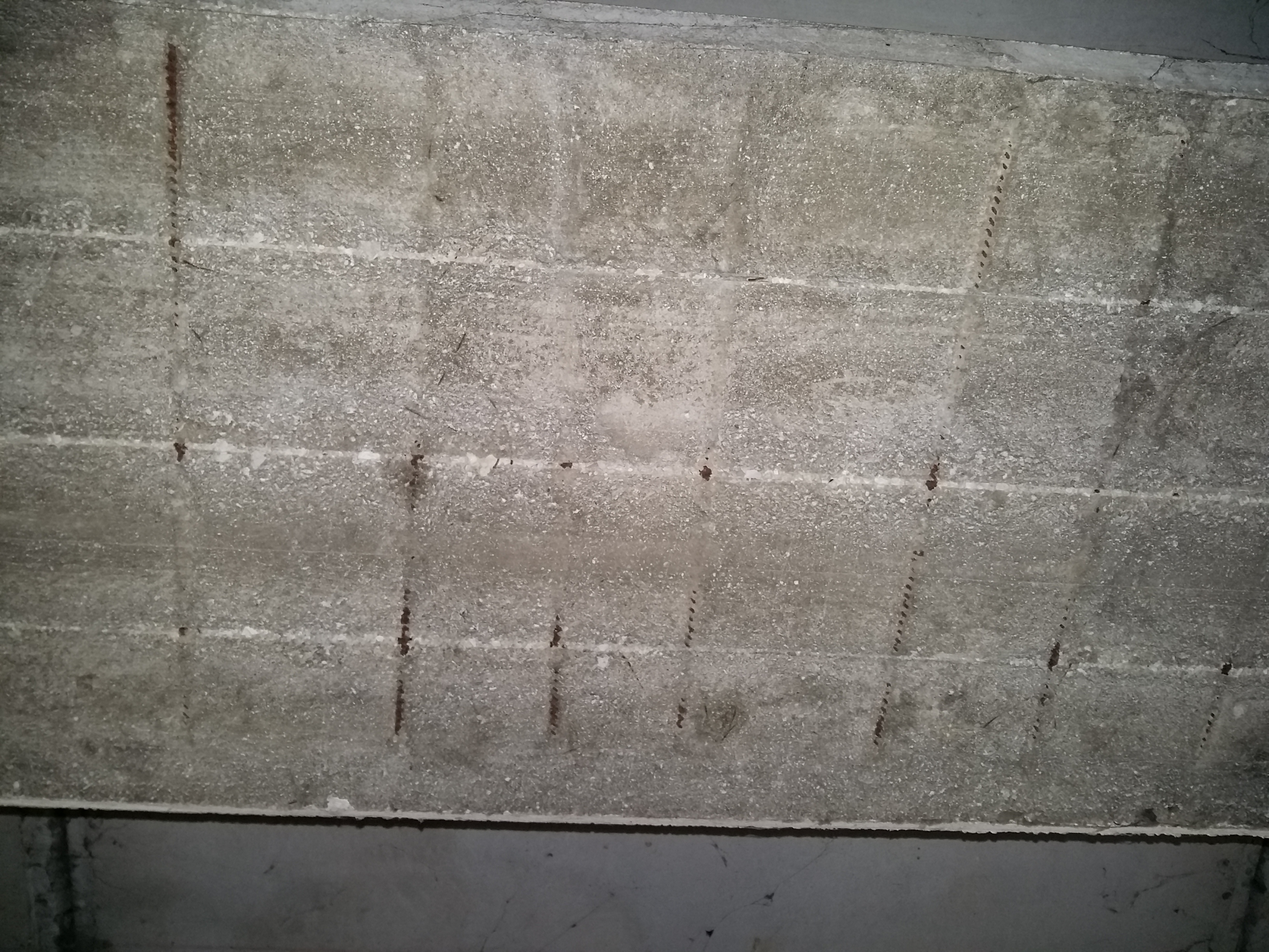Corrosion/Exposed rebar: (135, 46, 1236, 788)
